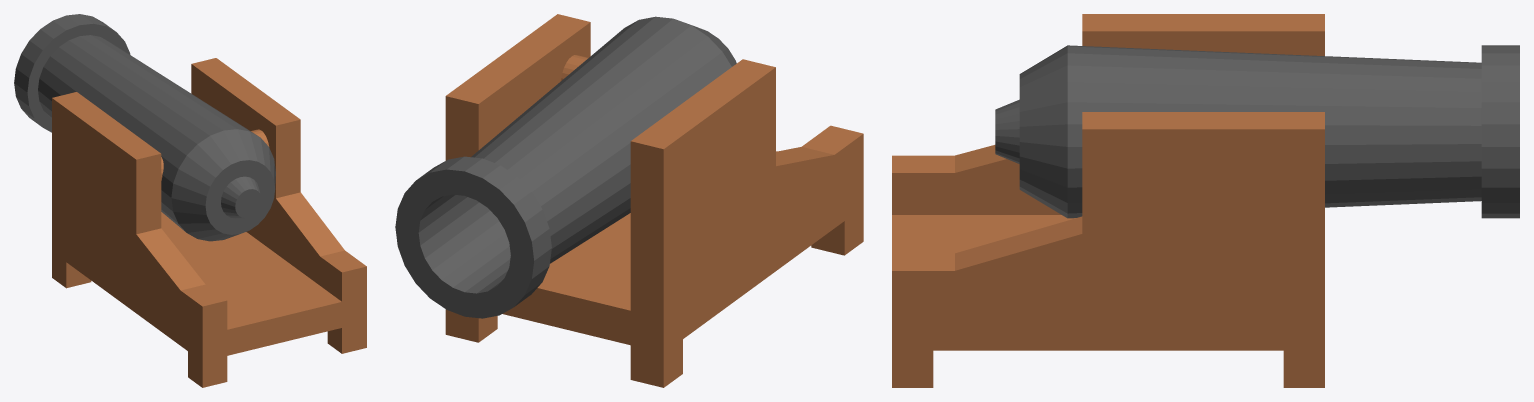
Rendered from cannonlarge.glb.
3 views of the same model, side by side, from view 1: azimuth 30°, elevation 25°; view 2: azimuth 150°, elevation 25°; view 3: azimuth 270°, elevation 25° (orthographic). The views are drawn at different scales.
Visible parts, largest first — view 1: cannonLarge, barrel 1; view 2: cannonLarge, barrel 1; view 3: cannonLarge, barrel 1.
Part boxes in pixels (x1,y1,x2,y2): cannonLarge: (52, 58, 366, 387); barrel 1: (14, 14, 275, 241); cannonLarge: (445, 14, 863, 387); barrel 1: (395, 16, 736, 318); cannonLarge: (892, 14, 1324, 387); barrel 1: (995, 45, 1519, 218).
Size of the model in its own units: 4.34 by 4.87 by 9.99.
